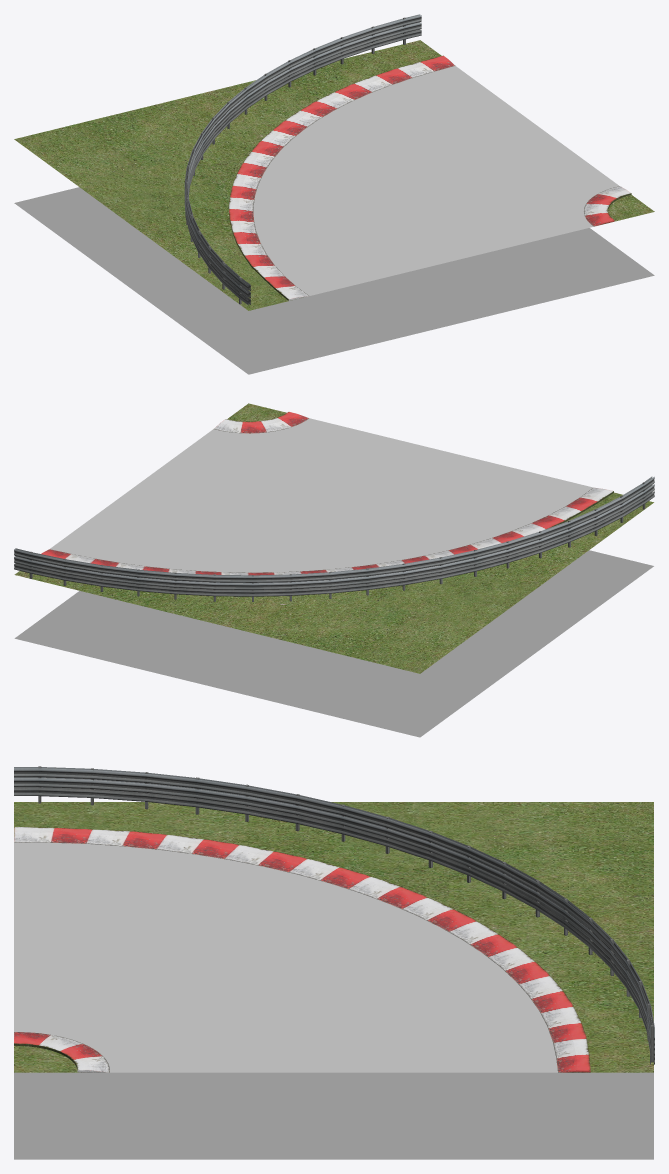
File: Track_Curve_B_Flipped.fbx
The picture shows the model from 3 angles, top to bottom: view 1: azimuth 30°, elevation 25°; view 2: azimuth 150°, elevation 25°; view 3: azimuth 270°, elevation 25°; orthographic projection. The views are drawn at different scales.
Visible parts, largest first — view 1: Road, Snap_Plane_Invisible, Grass, Rail, Curb_A, Curb_B; view 2: Road, Snap_Plane_Invisible, Grass, Rail, Curb_A, Curb_B; view 3: Road, Snap_Plane_Invisible, Grass, Rail, Curb_A, Curb_B.
Boxes of the visible parts, x1,y1,x2,y2 form: Road: (253,66,619,295); Snap_Plane_Invisible: (14,187,654,374); Grass: (14,40,654,310); Rail: (184,14,421,305); Curb_A: (228,55,455,300); Curb_B: (584,186,631,226); Road: (49,418,593,572); Snap_Plane_Invisible: (14,550,653,737); Grass: (14,403,653,673); Rail: (14,476,654,601); Curb_A: (41,487,613,575); Curb_B: (214,412,308,433); Road: (14,842,557,1072); Snap_Plane_Invisible: (14,1072,653,1159); Grass: (14,802,653,1072); Rail: (14,766,654,1064); Curb_A: (14,827,590,1072); Curb_B: (14,1032,109,1072).
Bounding box in the file's own units: 20.03 × 4.24 × 20.03.
